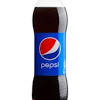Pepsi: (30, 2, 71, 100)
